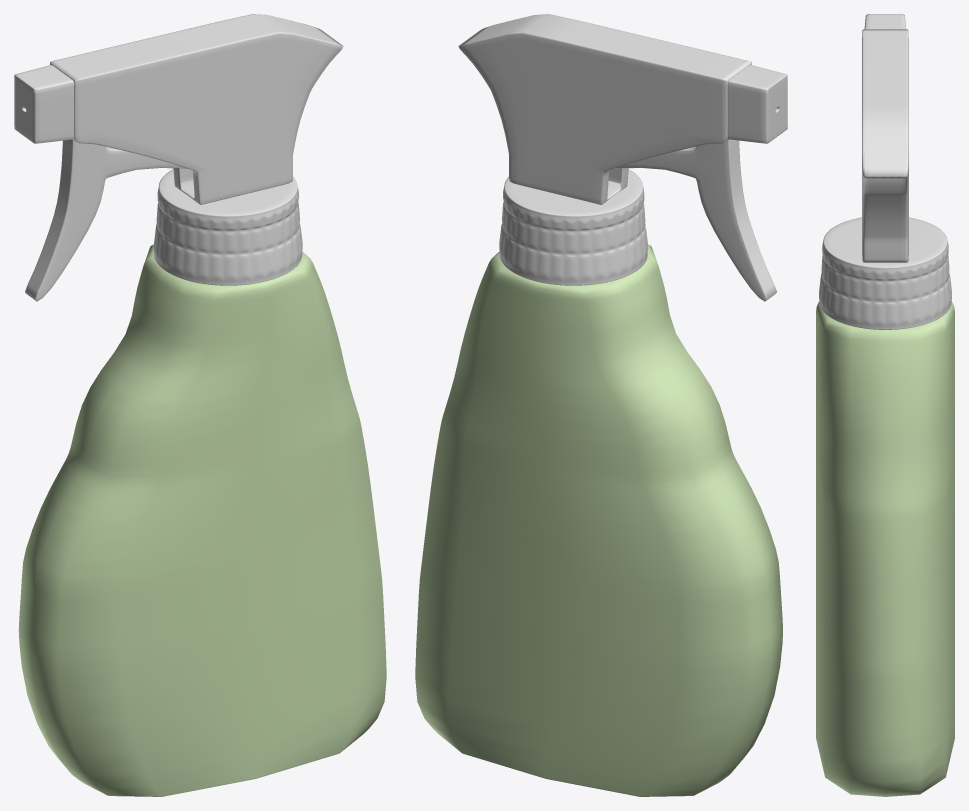
Rendered from Spray.fbx.
3 views of the same model, side by side, from view 1: azimuth 30°, elevation 25°; view 2: azimuth 150°, elevation 25°; view 3: azimuth 270°, elevation 25° (orthographic). The views are drawn at different scales.
Visible parts, largest first — view 1: bottom, Tap midle, Tap, Handle.001; view 2: bottom, Tap midle, Tap, Handle.001; view 3: bottom, Tap, Tap midle.
Part boxes in pixels (x1,y1,x2,y2): bottom: (18, 244, 386, 796); Tap midle: (50, 14, 343, 204); Tap: (14, 65, 302, 285); Handle.001: (25, 139, 187, 301); bottom: (415, 244, 782, 796); Tap midle: (458, 14, 751, 204); Tap: (499, 64, 787, 285); Handle.001: (614, 139, 776, 301); bottom: (816, 301, 954, 796); Tap: (819, 14, 951, 329); Tap midle: (862, 29, 908, 262).
Bounding box in the file's own units: 52.52 × 103 × 20.16.
